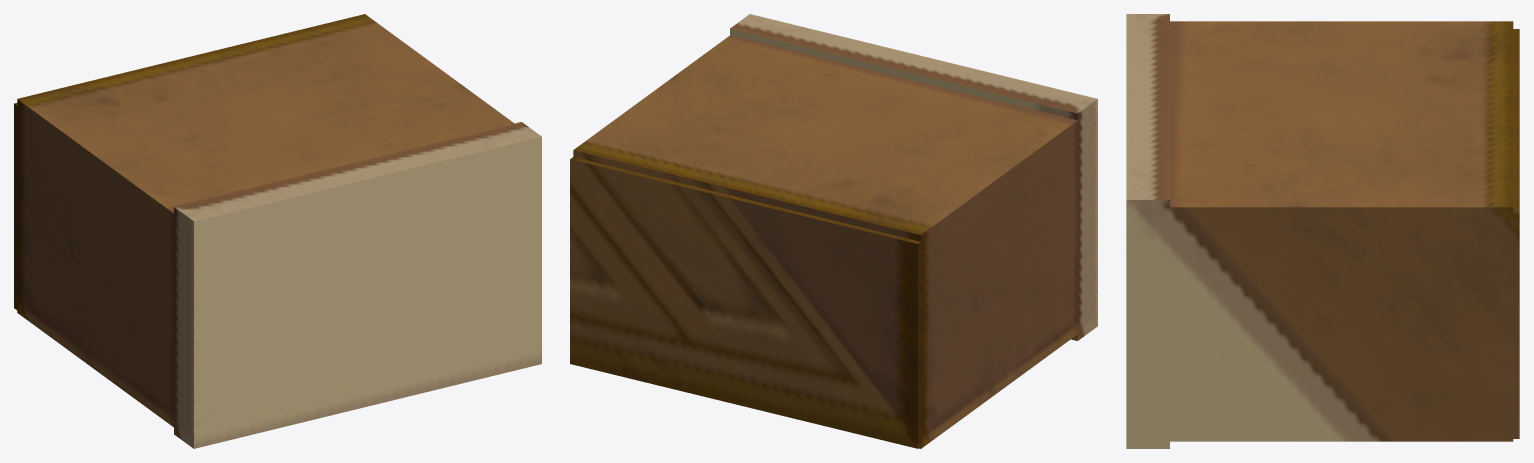
The model's file is pz_counter_trailer_floor.obj.
3 renders of one model, left to right at view 1: azimuth 30°, elevation 25°; view 2: azimuth 150°, elevation 25°; view 3: azimuth 270°, elevation 25°, orthographic. The views are drawn at different scales.
Parts seen in each view (by area): view 1: pz_counter_trailer_floor; view 2: pz_counter_trailer_floor; view 3: pz_counter_trailer_floor.
Boxes of the visible parts, x1,y1,x2,y2 form: pz_counter_trailer_floor: (14,14,541,448); pz_counter_trailer_floor: (570,14,1097,448); pz_counter_trailer_floor: (1126,14,1519,448).
Bounding box in the file's own units: 1 × 0.625 × 0.895.
1 material, 1 textured.
